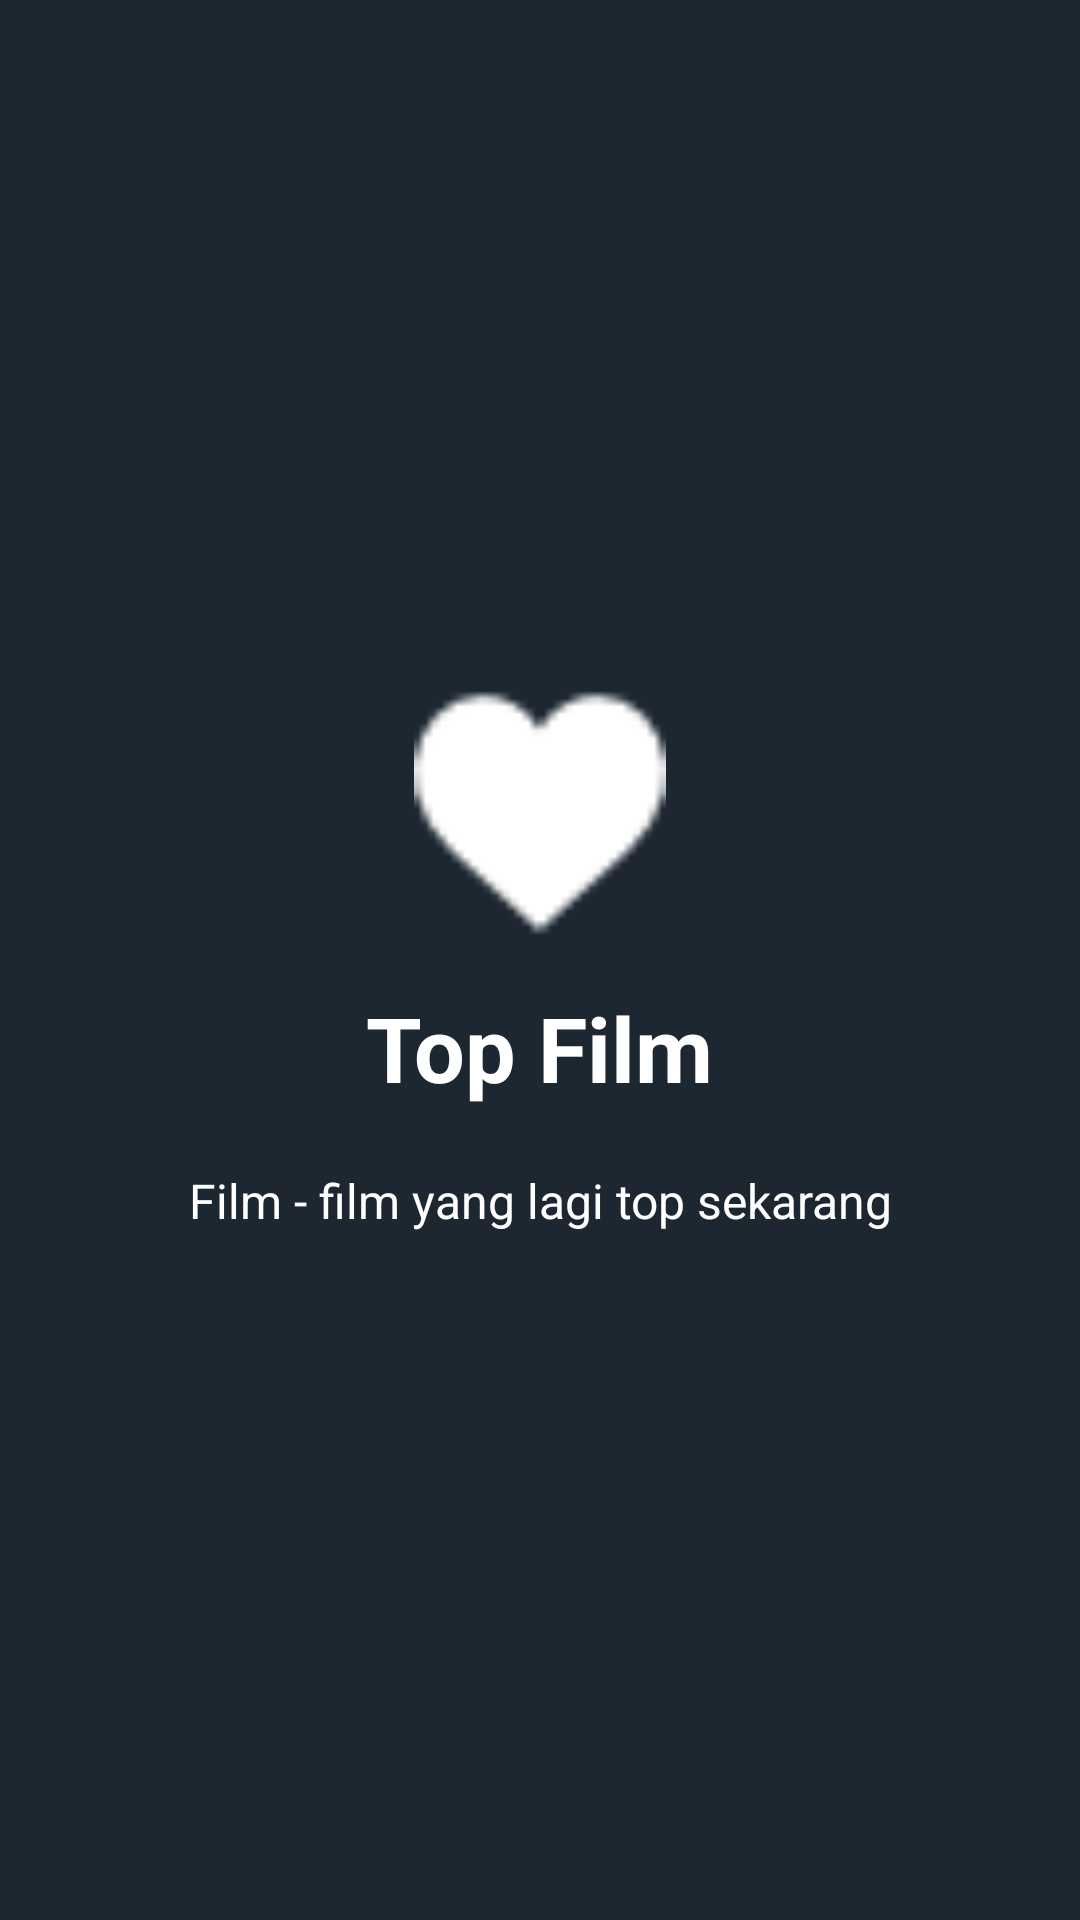

Locate icon controls on the screen. Image size 1080px×1920px, boxes as (x1, y1, x2, y2).
favorite: (414, 692, 666, 933)
